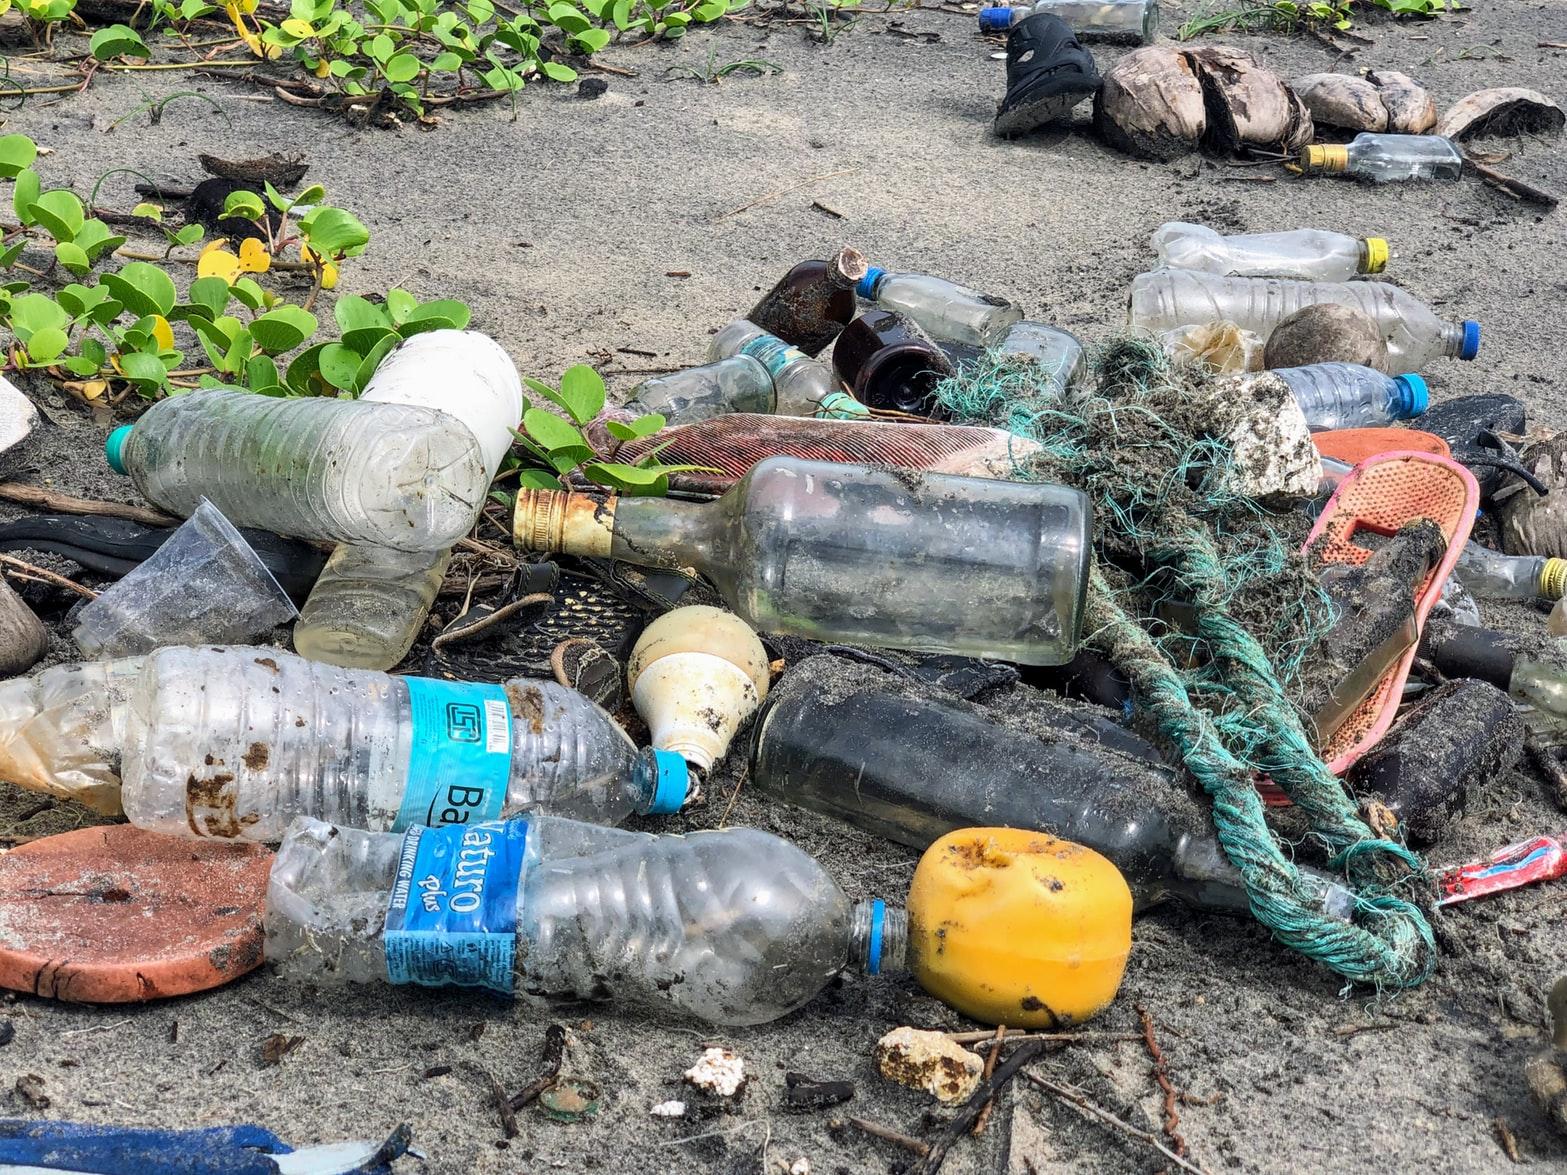garbage: (16, 355, 1566, 1052), (726, 243, 1567, 996), (1006, 44, 1455, 178)
